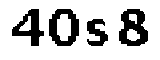0: (46, 6, 81, 51)
4: (5, 6, 46, 51)
8: (119, 7, 151, 50)
s: (84, 16, 111, 52)
